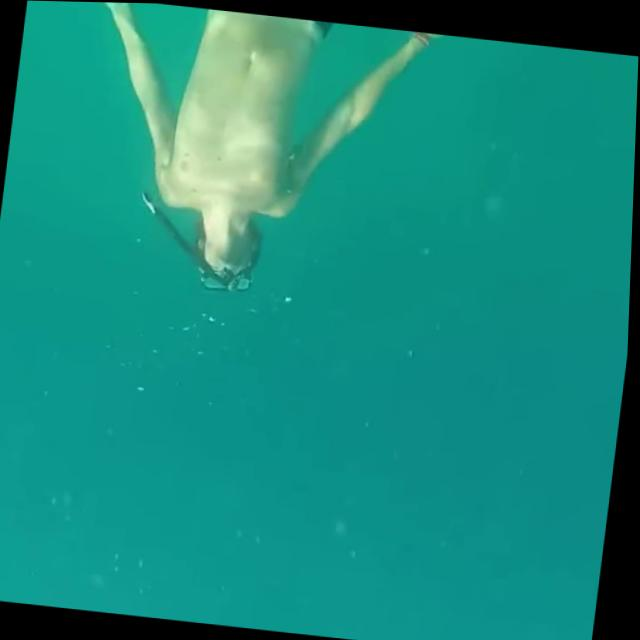human: (63, 1, 452, 319)
